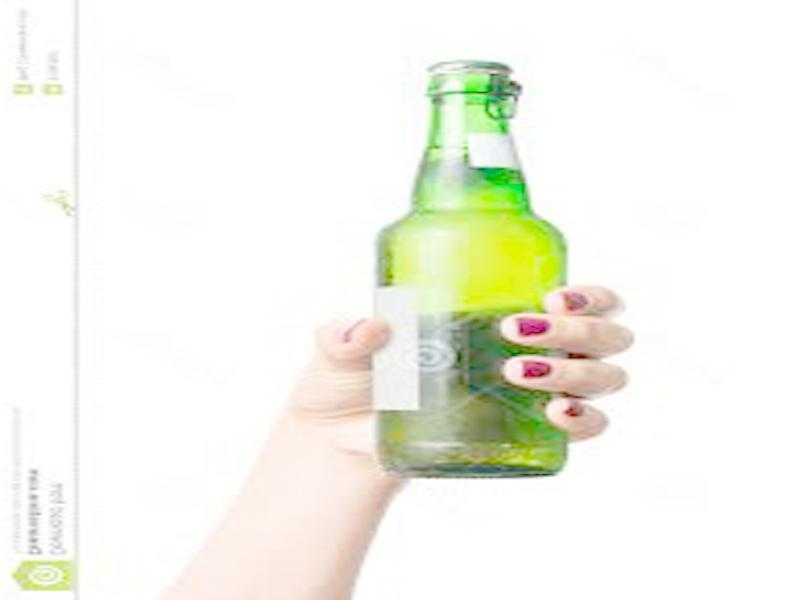Beer: (368, 57, 567, 479)
